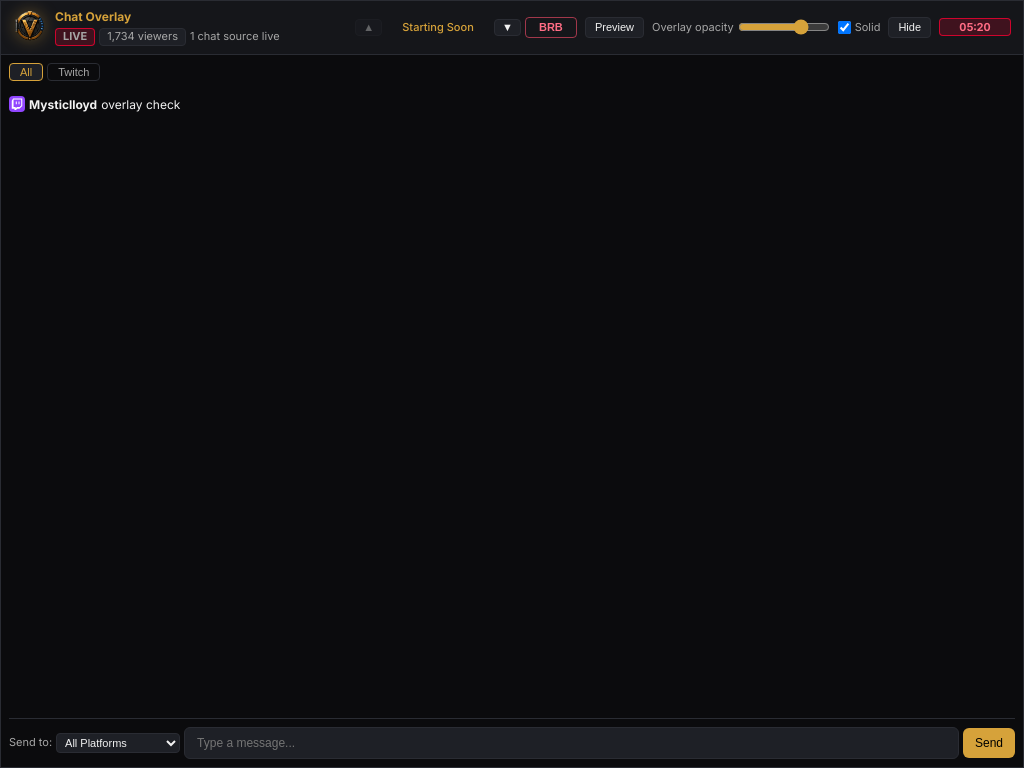
Test: Chat popout overlay route › switches scenes with the up/down arrows
Expected: the text "Starting Soon" is shown, [402,20,474,34]
Expected: the button named "previous scene" is disabled, [355,19,382,36]
Click the button named "next scene" at (507, 27), box [494,19,521,36]
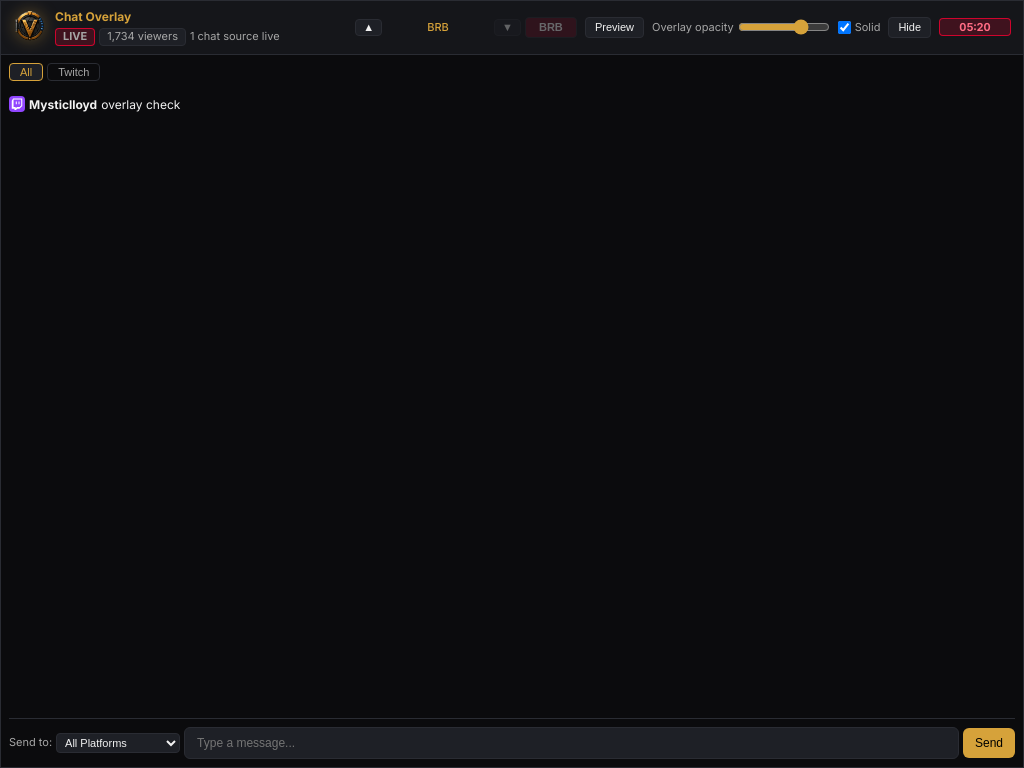
Now the button named "next scene" is disabled, box [494,19,521,36]
Now the button named "previous scene" is enabled, box [355,19,382,36]
